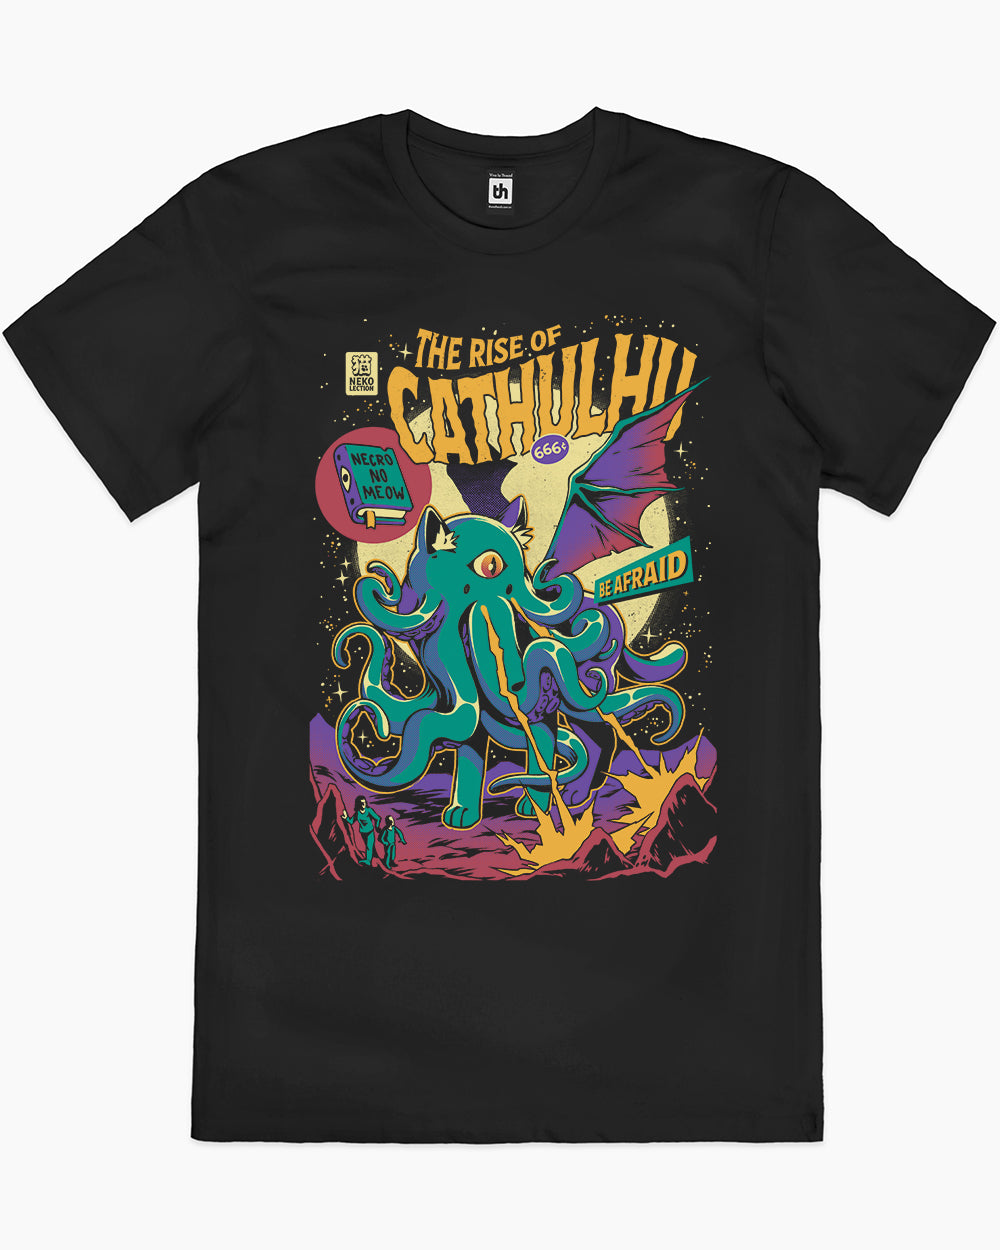design: (294, 305, 726, 893)
